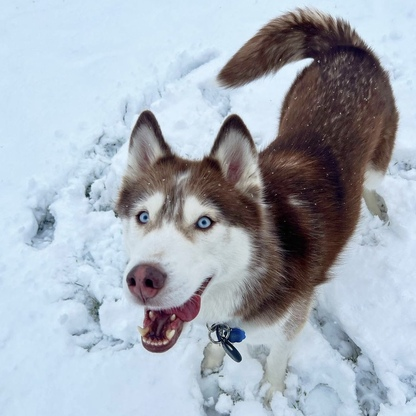husky: (107, 2, 406, 410)
